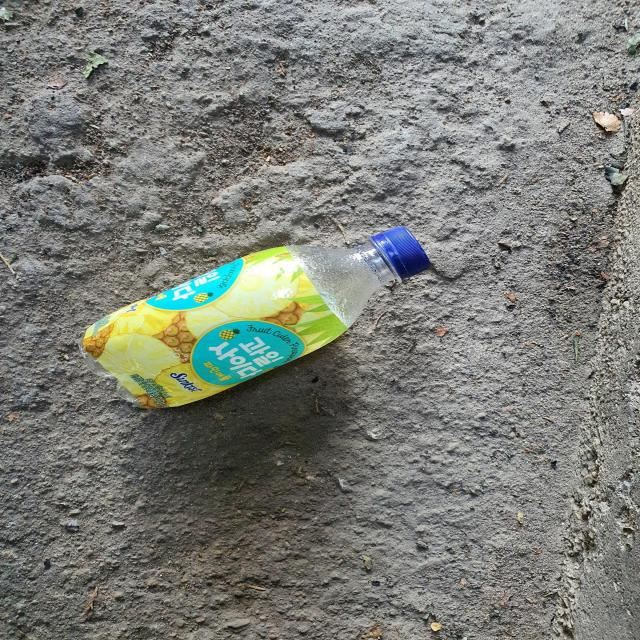plastic: (80, 227, 430, 409)
